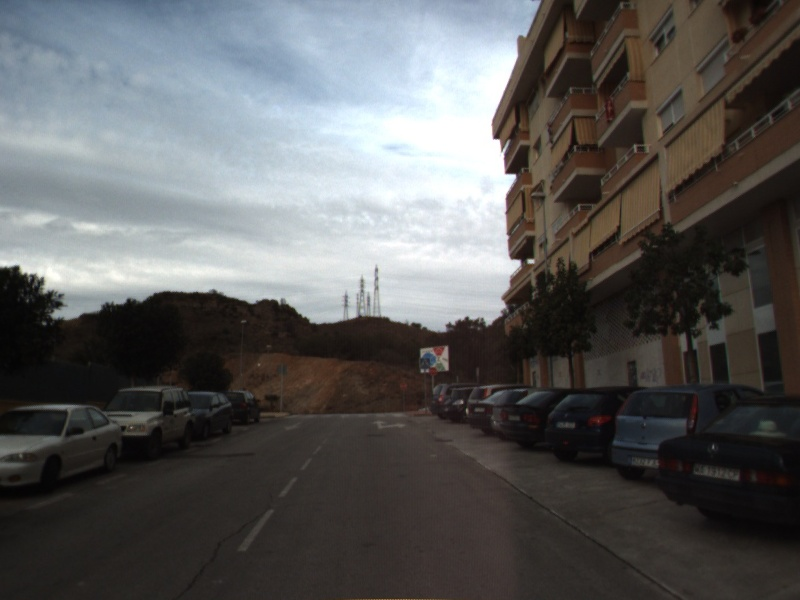STRAIGHT_RIGHT: (369, 418, 409, 431)
